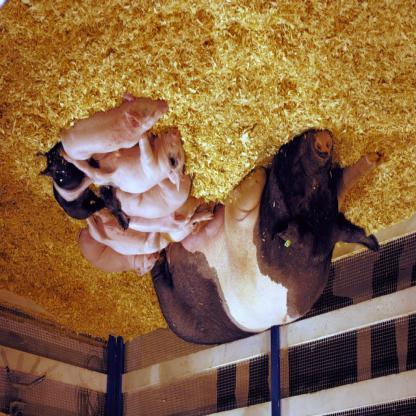boar: (36, 91, 386, 344)
